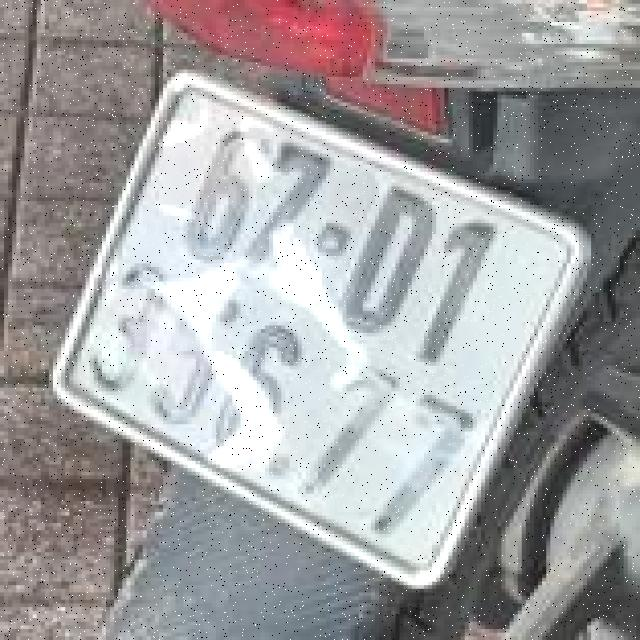1: (446, 218, 496, 368)
3: (104, 254, 169, 401)
5: (169, 298, 230, 426)
6: (181, 119, 267, 269), (214, 325, 296, 472)
7: (371, 382, 481, 550), (302, 355, 399, 508), (247, 126, 332, 280)
D: (338, 170, 432, 353)
